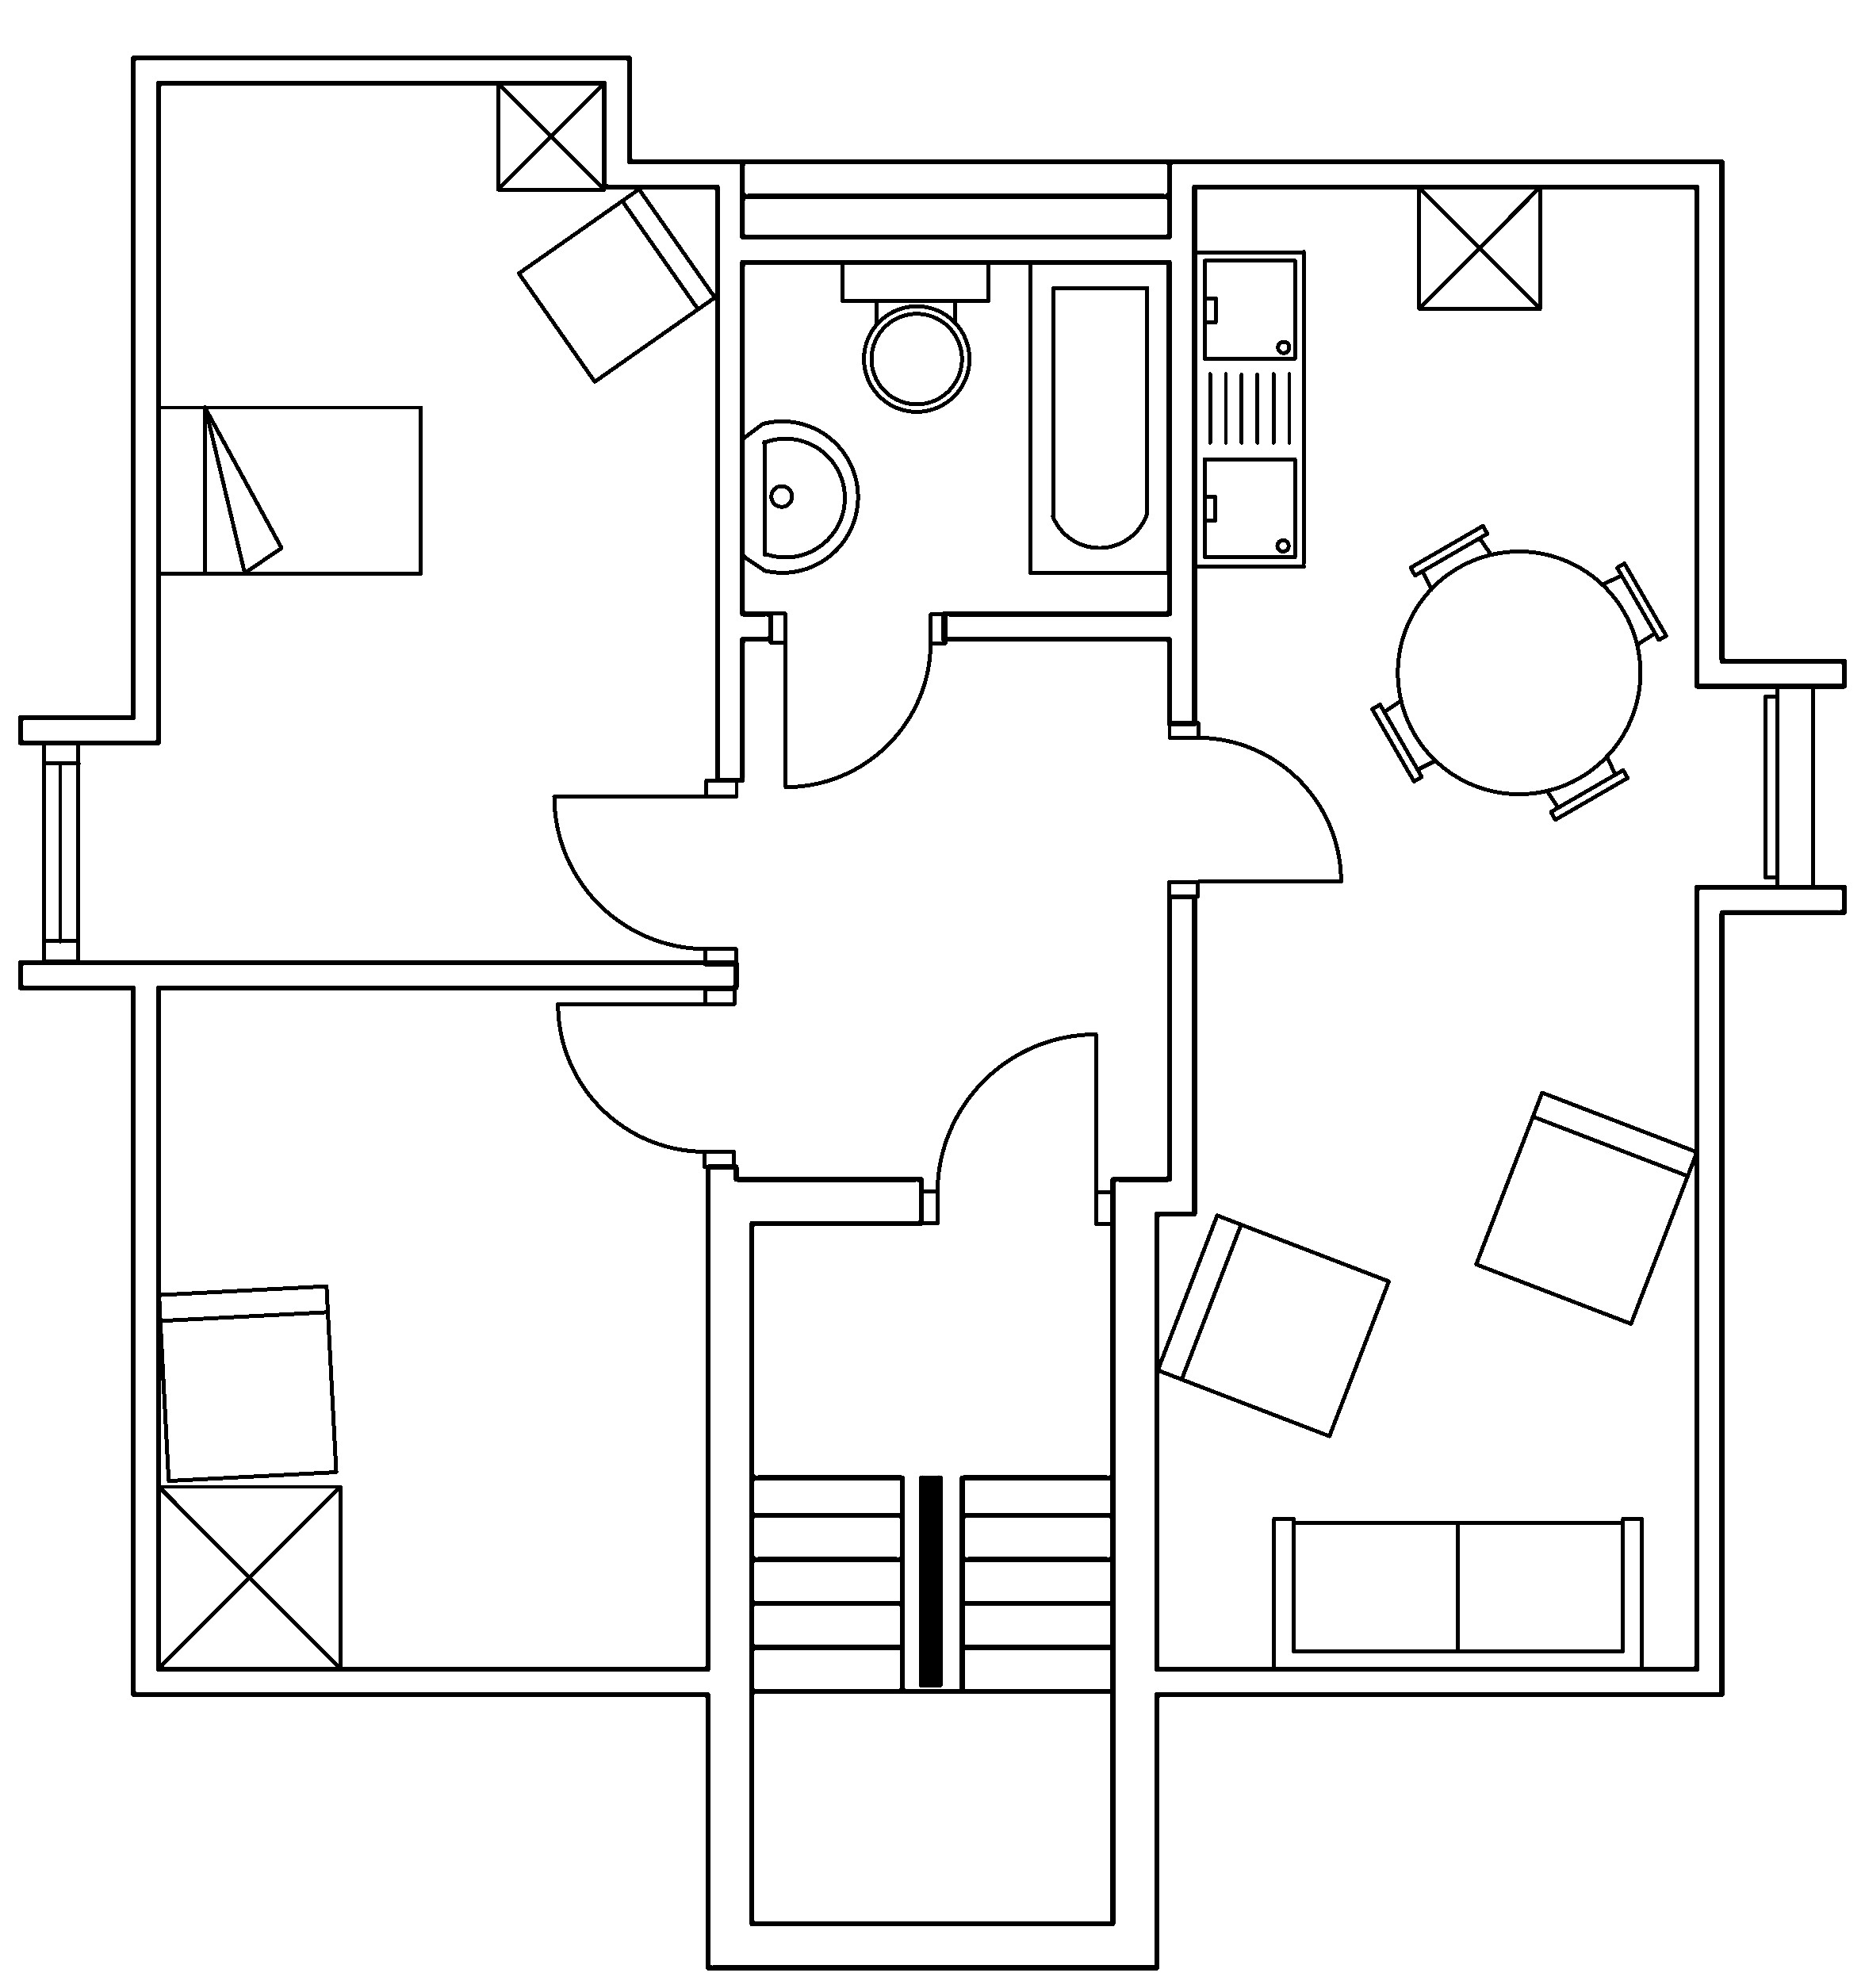bed: (154, 403, 424, 577)
coffee_table: (154, 1481, 342, 1671), (1416, 182, 1542, 310), (494, 79, 606, 191)
large_sink: (840, 258, 990, 412)
large_sofa: (1271, 1515, 1644, 1672)
round_table: (1369, 522, 1669, 822)
small_sink: (740, 419, 859, 573)
small_sofa: (1153, 1211, 1392, 1439), (1472, 1089, 1698, 1325), (515, 186, 717, 384), (156, 1282, 338, 1483)
tub: (1027, 258, 1171, 575)
twin_sink: (1192, 247, 1308, 570)
